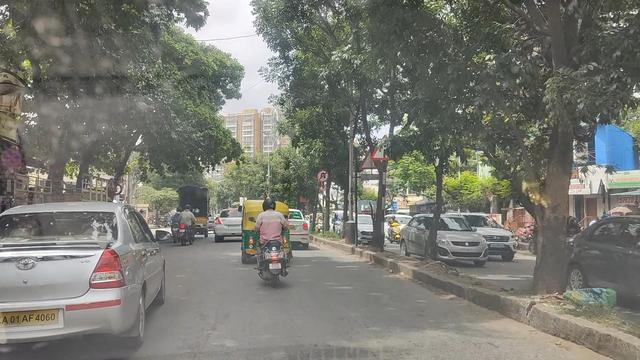LMV: (0, 198, 166, 341), (243, 202, 296, 284)
